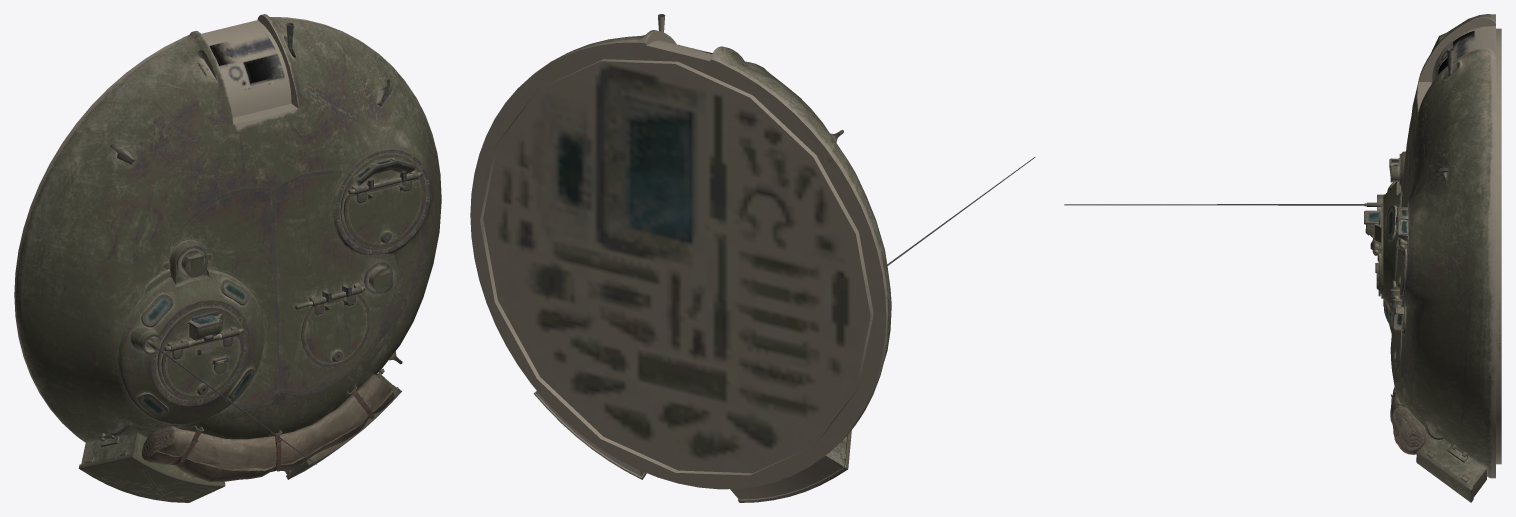
The model's file is Turret_02.glb.
The picture shows the model from 3 angles, left to right: view 1: azimuth 30°, elevation 25°; view 2: azimuth 150°, elevation 25°; view 3: azimuth 270°, elevation 25°; orthographic projection. The views are drawn at different scales.
Parts seen in each view (by area): view 1: set_0_group_0; view 2: set_0_group_0; view 3: set_0_group_0.
Boxes of the visible parts, left/top/right/bottom form: set_0_group_0: left=14, top=14, right=441, bottom=502; set_0_group_0: left=470, top=14, right=1035, bottom=502; set_0_group_0: left=1064, top=14, right=1501, bottom=502.
Size of the model in its own units: 3.11 by 3.28 by 2.93.
Materials: 1 (1 with a texture image).
